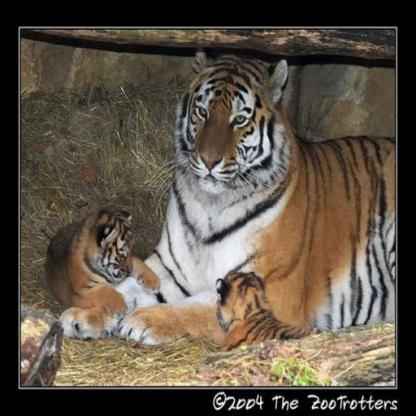Tiger: (84, 44, 398, 348), (55, 194, 158, 346), (203, 263, 308, 353)
